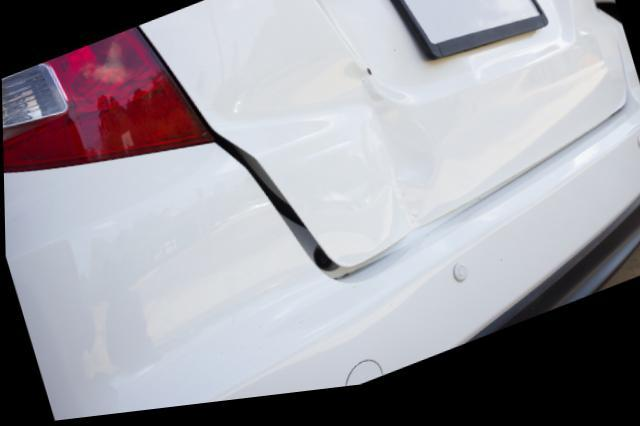dent: (346, 70, 440, 246)
dislocated part: (210, 137, 351, 304)
